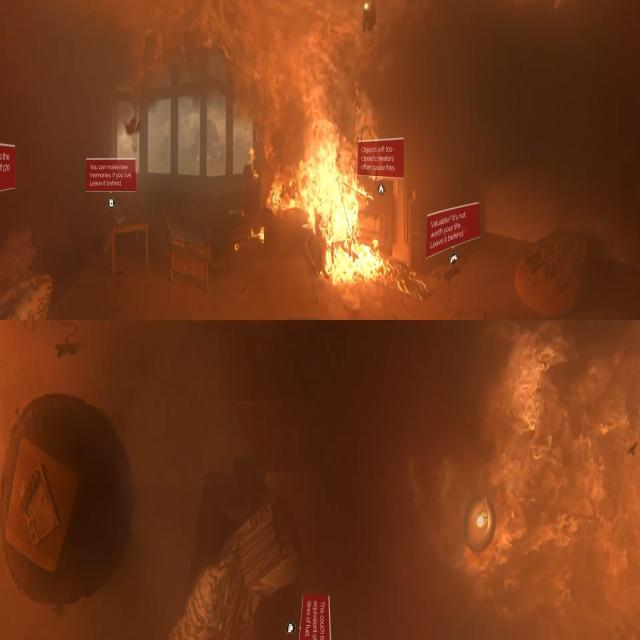Fire: (195, 0, 409, 310)
